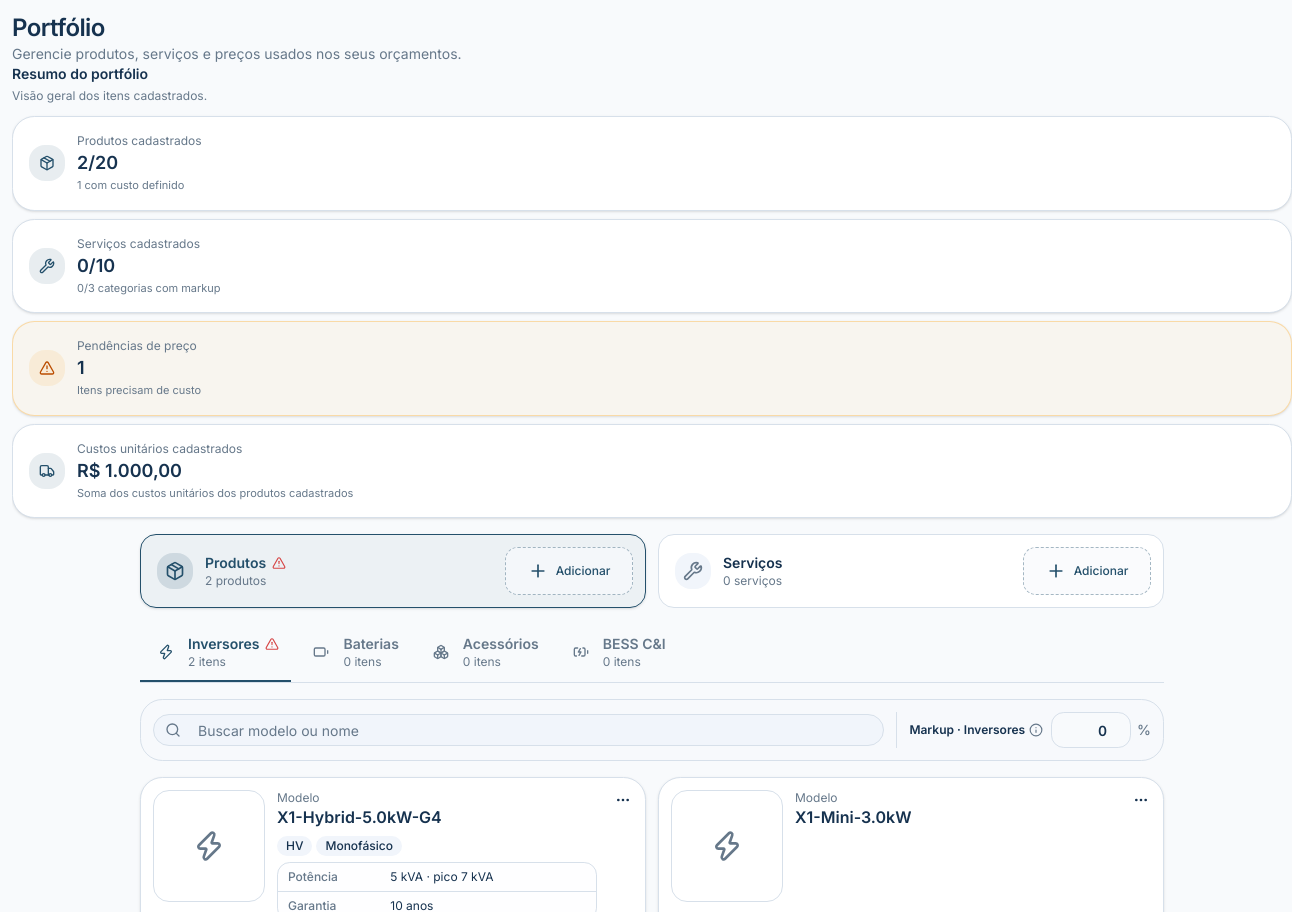
Test: MyStockTab: listing › offers a way to restore a no-result search
Type "não existe" into the field named "Buscar produto no portfólio" at [519, 730], box top-left (153, 714), bottom-right (884, 746)
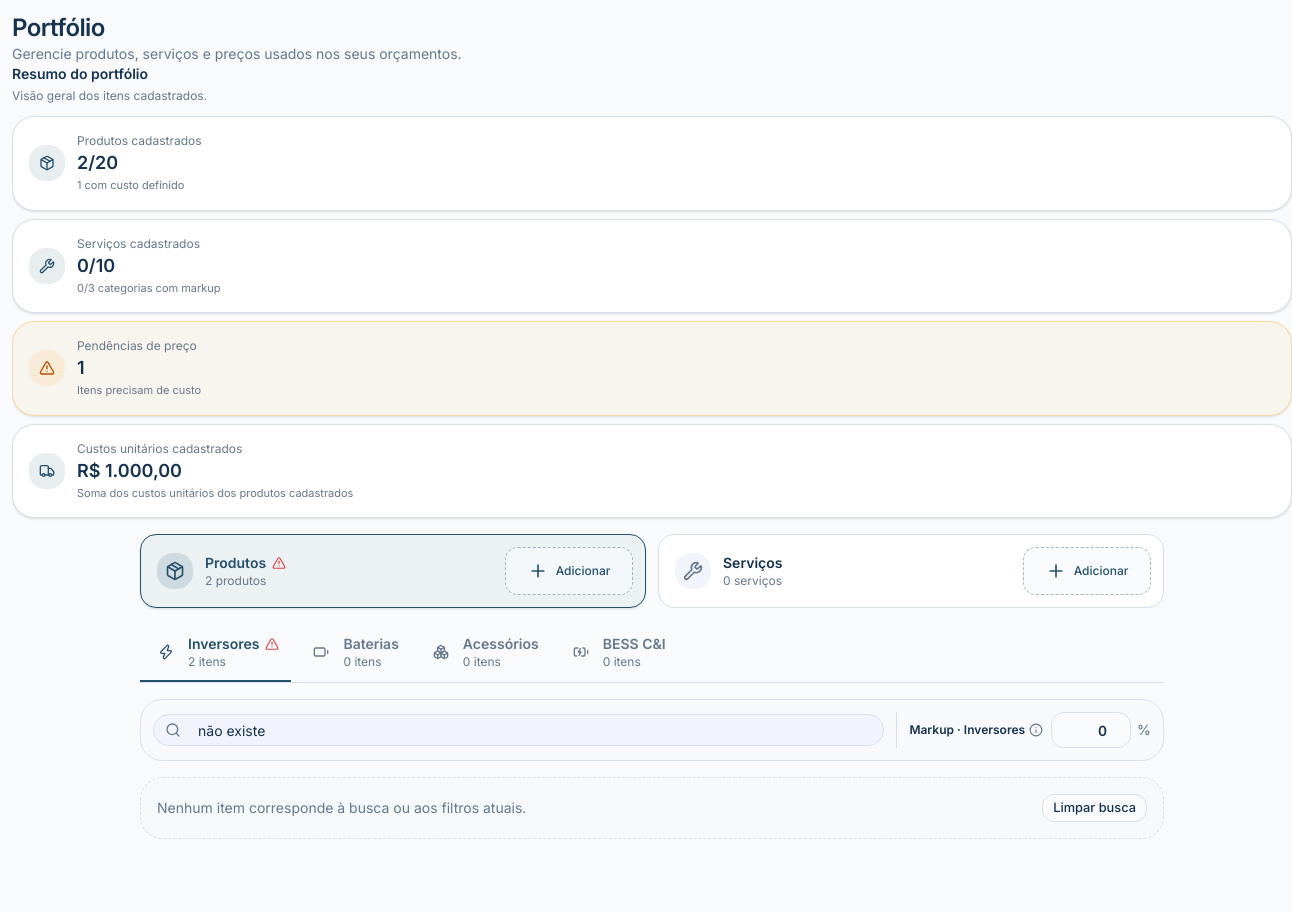
Click the button "Limpar busca" at [1095, 808], box top-left (1042, 794), bottom-right (1147, 822)
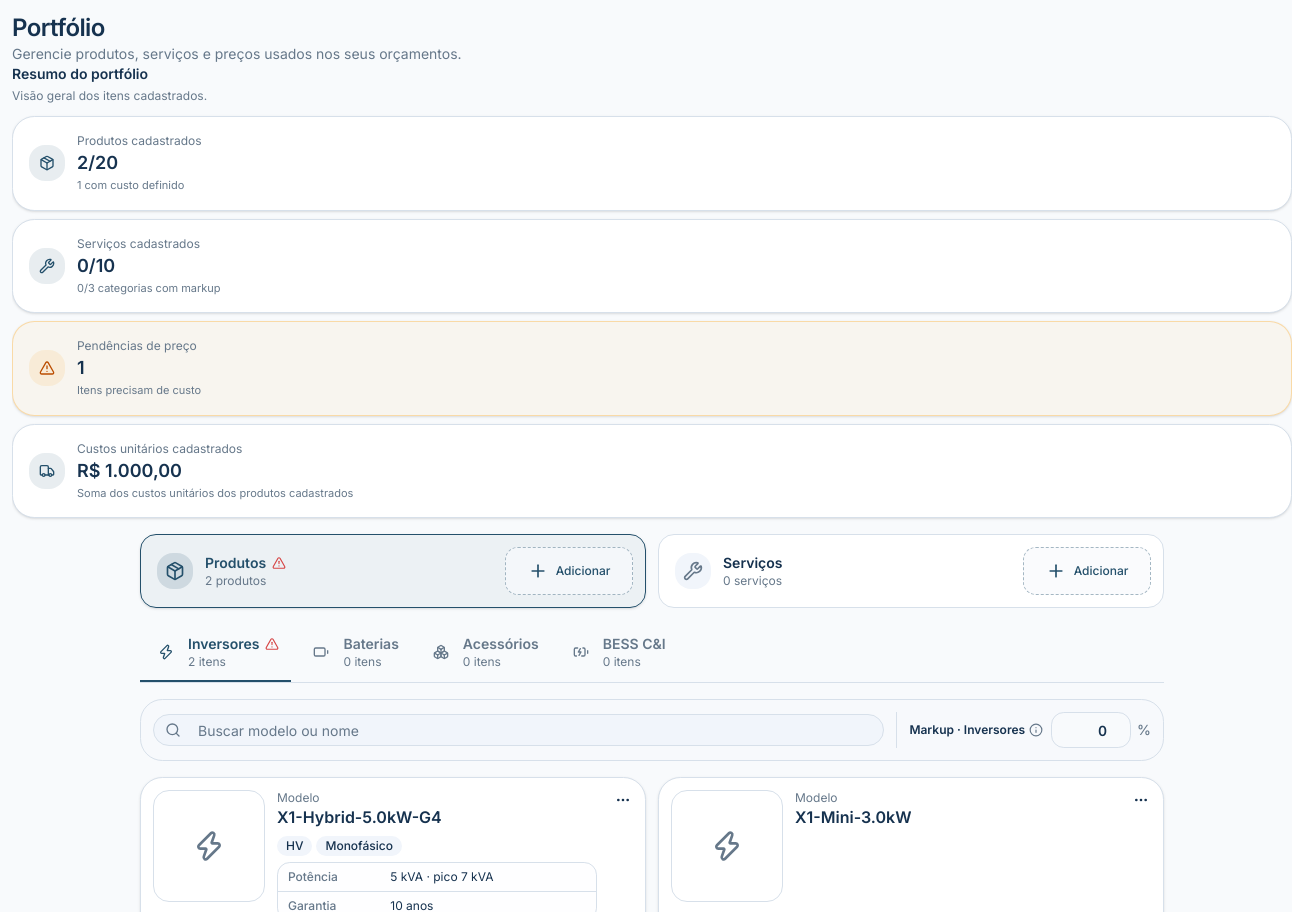
Now the text "X1-Hybrid-5.0kW-G4" is shown, box top-left (277, 806), bottom-right (442, 828)
